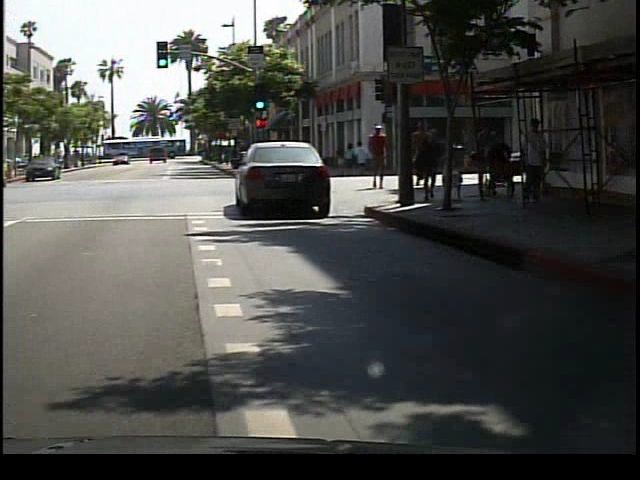person: (367, 120, 399, 198)
